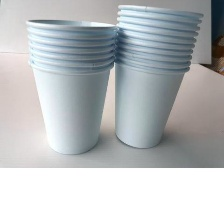paper_cup: (106, 0, 207, 153), (18, 13, 122, 160)
